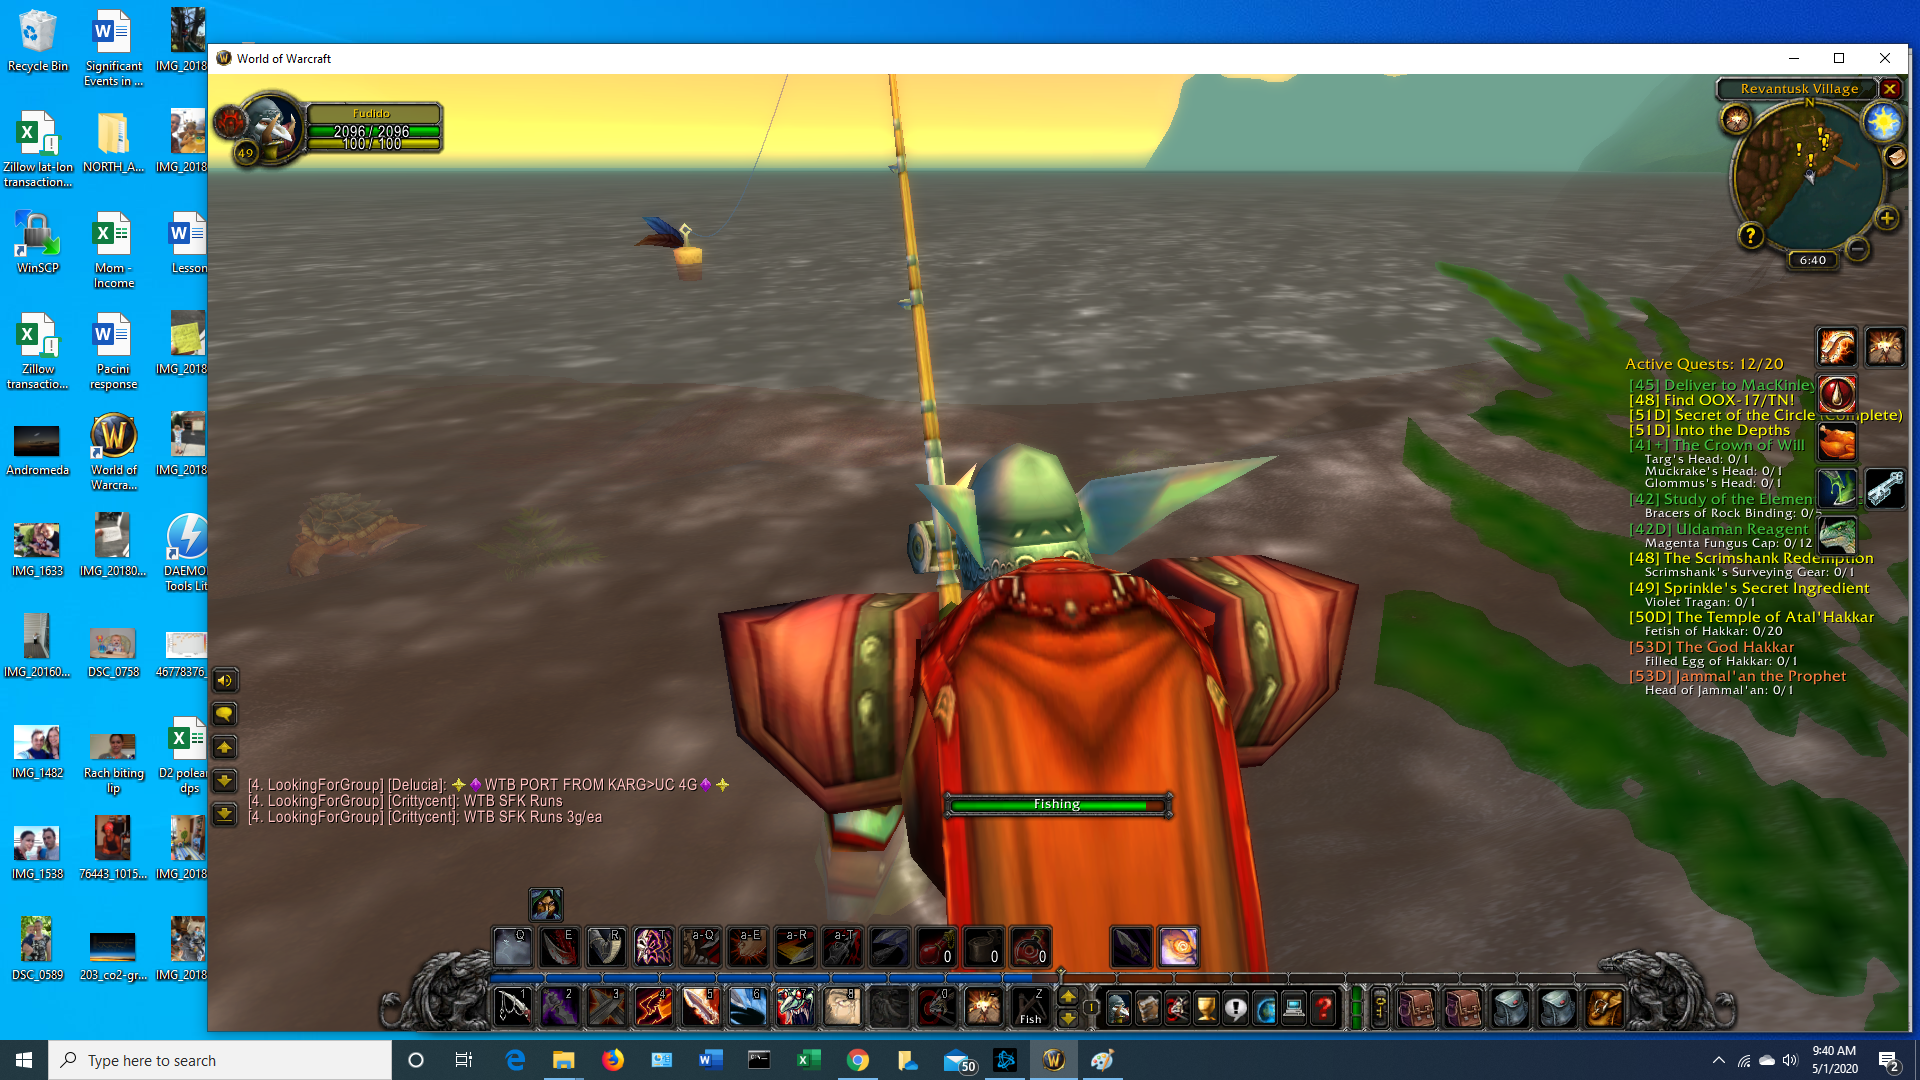bobble: (636, 204, 721, 290)
